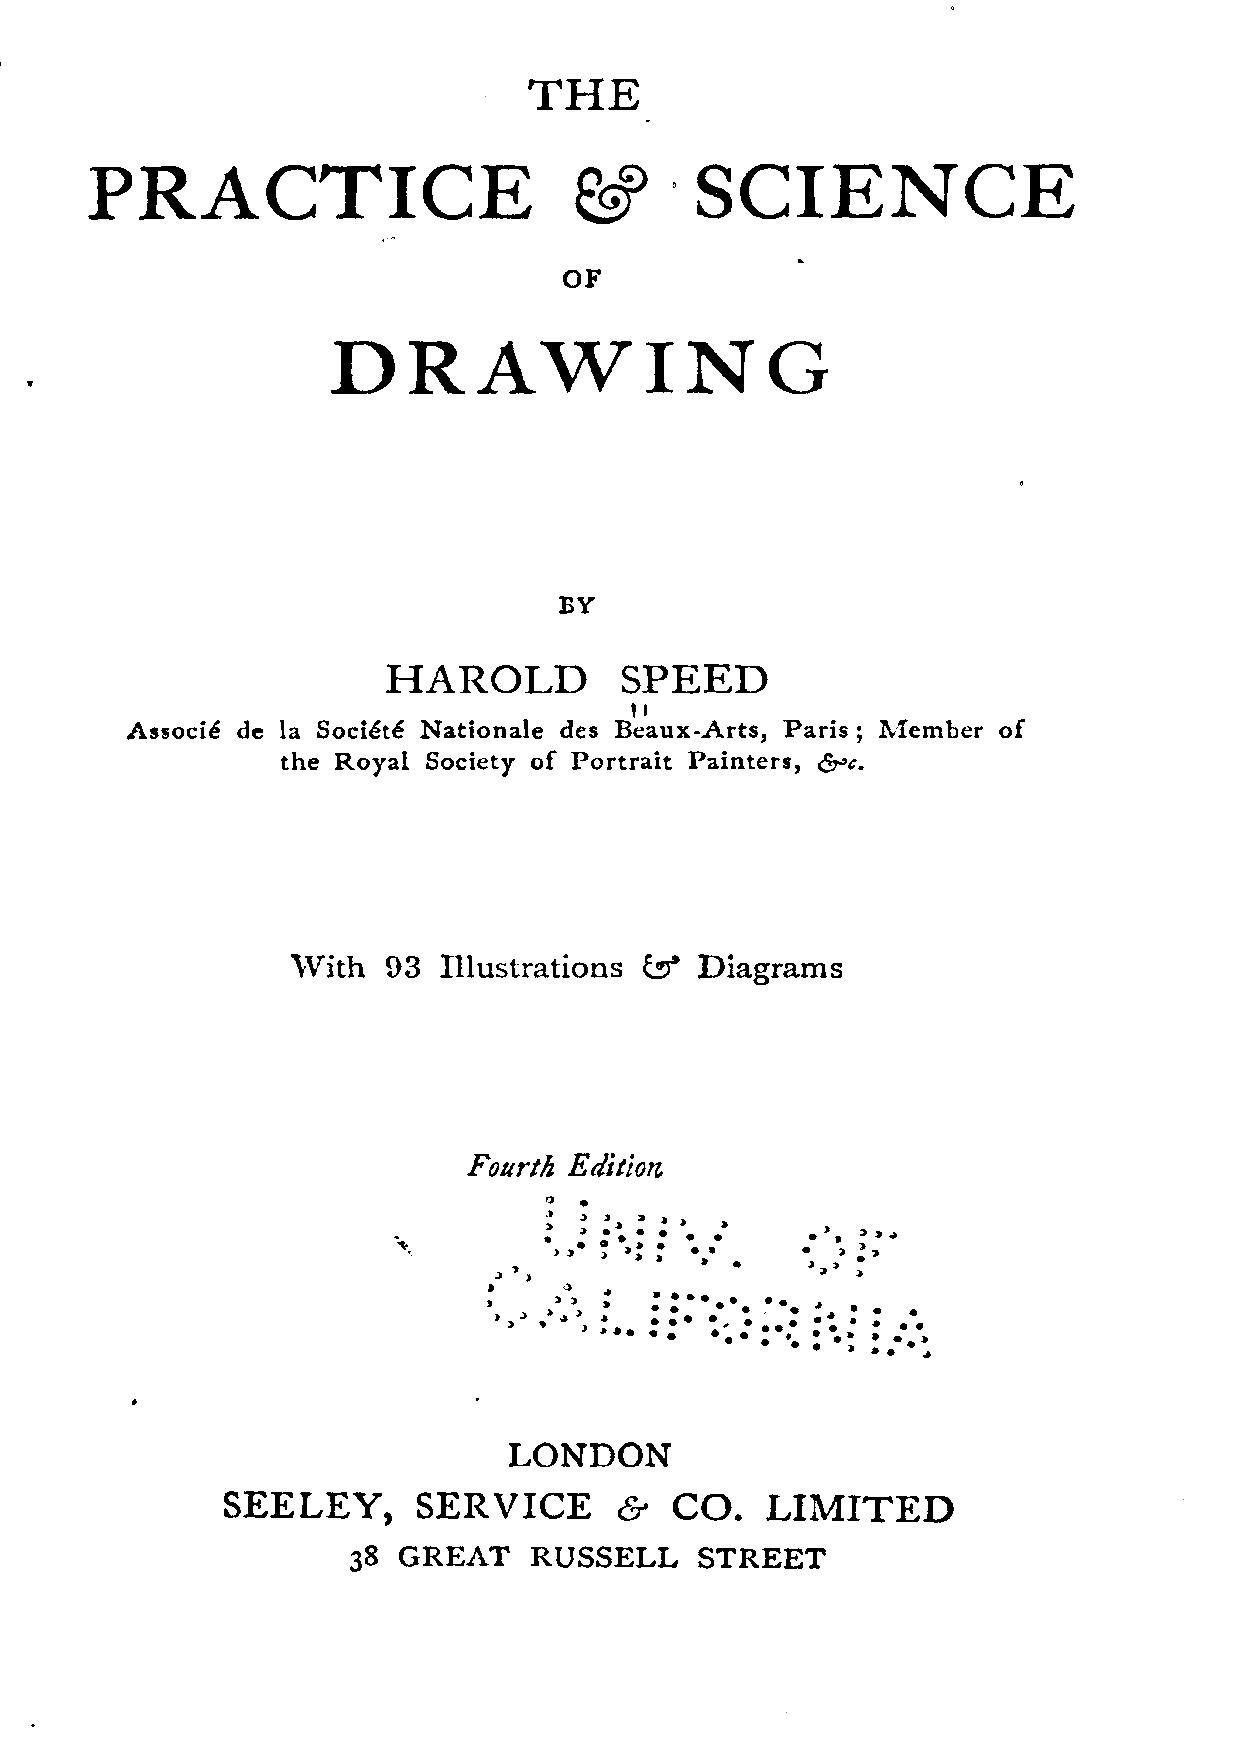author: (380, 590, 768, 695)
title: (82, 76, 1078, 399)
